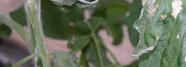Tomato leaf bacterial spot: (132, 0, 186, 67)
